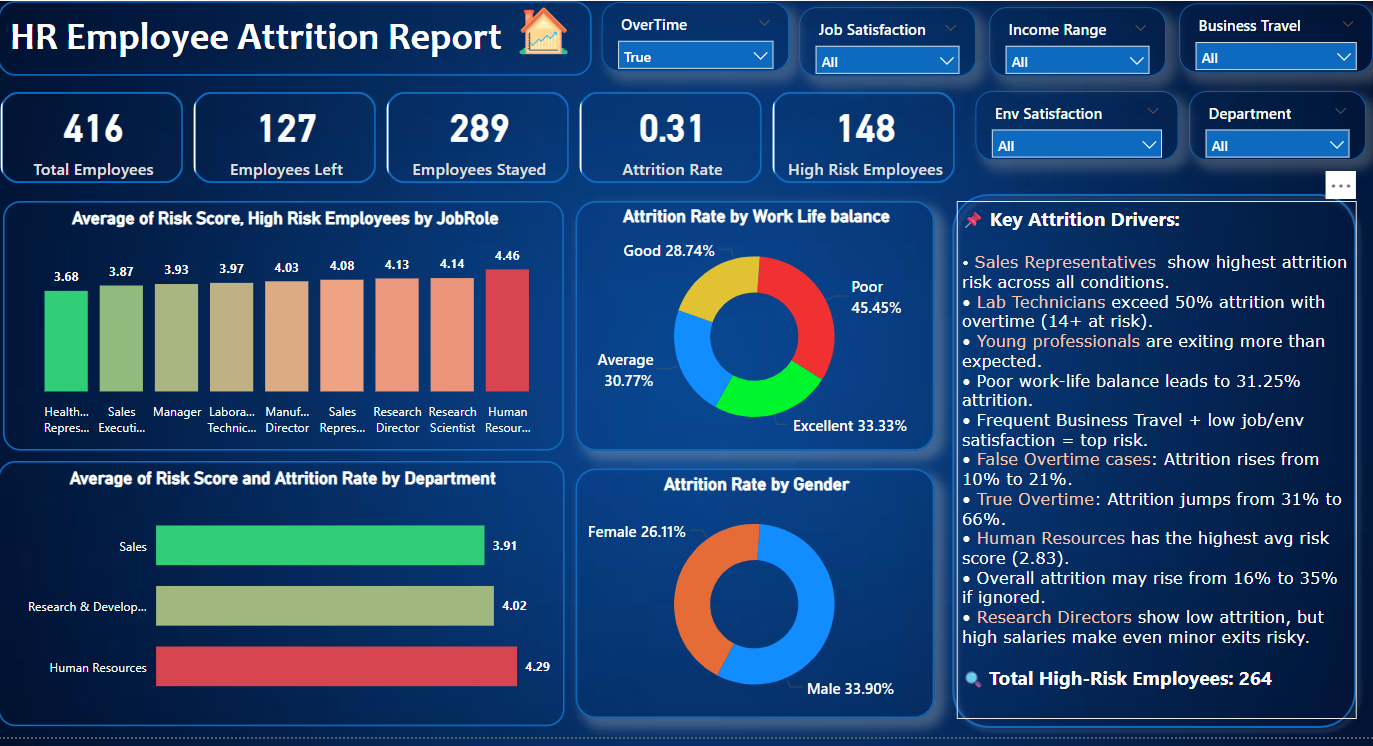

The page's visual inventory and layout, read from the dashboard file:
{"tool":"powerbi","page":{"name":"Insights ","canvas":[1340,717],"ordinal":1},"visuals":[{"type":"cardVisual","fields":{"Data":["HR_Employee_attrition.Total Employees","HR_Employee_attrition.Employees Left","HR_Employee_attrition.Employees Stayed","HR_Employee_attrition.Attrition Rate","HR_Employee_attrition.High Risk Employees"]},"box":[0,87.7,934,91.3],"z":0},{"type":"textbox","box":[0,0,571.1,73.1],"z":1000},{"type":"slicer","fields":{"Values":["HR_Employee_attrition.OverTime"]},"box":[588.2,1.2,182.7,67],"z":2000},{"type":"slicer","fields":{"Values":["HR_Employee_attrition.Job Satisfaction"]},"box":[780.6,6.1,171.7,67],"z":3000},{"type":"slicer","fields":{"Values":["HR_Employee_attrition.BusinessTravel"]},"box":[1150.8,2.4,188.7,67],"z":4000},{"type":"columnChart","title":"Average of Risk Score, High Risk Employees by JobRole","fields":{"Category":["HR_Employee_attrition.JobRole"],"Y":["Avg(HR_Employee_attrition.Risk Score)"]},"box":[4.9,194.8,546.8,243.5],"z":5000},{"type":"barChart","fields":{"Category":["HR_Employee_attrition.Department"],"Y":["Avg(HR_Employee_attrition.Risk Score)"]},"box":[0,448.1,551.6,258.2],"z":6000},{"type":"slicer","fields":{"Values":["HR_Employee_attrition.Department"]},"box":[1160.5,87.7,171.7,67],"z":7000},{"type":"slicer","fields":{"Values":["HR_Employee_attrition.Env Satisfaction"]},"box":[952.3,87.7,197.3,67],"z":8000},{"type":"donutChart","title":"Attrition Rate by Work Life balance","fields":{"Category":["HR_Employee_attrition.Work Life balance"],"Y":["HR_Employee_attrition.Attrition Rate"]},"box":[562.6,194.8,349.5,243.5],"z":9000},{"type":"slicer","fields":{"Values":["HR_Employee_attrition.Income Range"]},"box":[965.7,6.1,171.7,67],"z":10000},{"type":"shape","box":[920.6,179,411.6,538.2],"z":11000},{"type":"textbox","box":[934,194.8,389.7,504.1],"z":12000},{"type":"donutChart","title":"Attrition Rate by Gender","fields":{"Y":["HR_Employee_attrition.Attrition Rate"],"Category":["HR_Employee_attrition.Gender"]},"box":[562.6,455.4,349.5,243.5],"z":13000}]}

Visuals, with their boxes in screenshot pixels (x1, y1, x2, y2), scaled from the page's 1340x717 canvas onto the 1373x746 screenshot:
cardVisual - HR_Employee_attrition.Total Employees x HR_Employee_attrition.Employees Left: bbox(0, 91, 957, 186)
textbox: bbox(0, 0, 585, 76)
slicer - HR_Employee_attrition.OverTime: bbox(603, 1, 790, 71)
slicer - HR_Employee_attrition.Job Satisfaction: bbox(800, 6, 976, 76)
slicer - HR_Employee_attrition.BusinessTravel: bbox(1179, 2, 1372, 72)
"Average of Risk Score, High Risk Employees by JobRole" columnChart: bbox(5, 203, 565, 456)
barChart - HR_Employee_attrition.Department x Avg(HR_Employee_attrition.Risk Score): bbox(0, 466, 565, 735)
slicer - HR_Employee_attrition.Department: bbox(1189, 91, 1365, 161)
slicer - HR_Employee_attrition.Env Satisfaction: bbox(976, 91, 1178, 161)
"Attrition Rate by Work Life balance" donutChart: bbox(576, 203, 935, 456)
slicer - HR_Employee_attrition.Income Range: bbox(989, 6, 1165, 76)
shape: bbox(943, 186, 1365, 745)
textbox: bbox(957, 203, 1356, 727)
"Attrition Rate by Gender" donutChart: bbox(576, 474, 935, 727)
